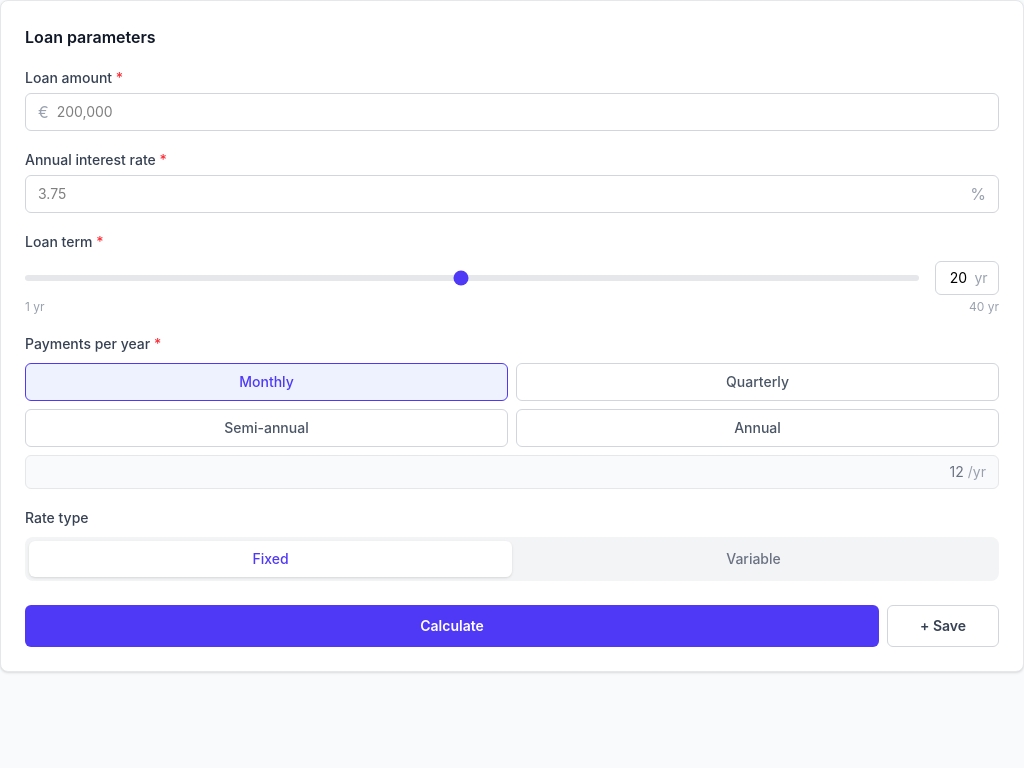
it: LoanForm save failure › closes the error banner with the dismiss button
The image size is (1024, 768).
Click the button "+ Save": [943, 626] box [887,605,999,647]
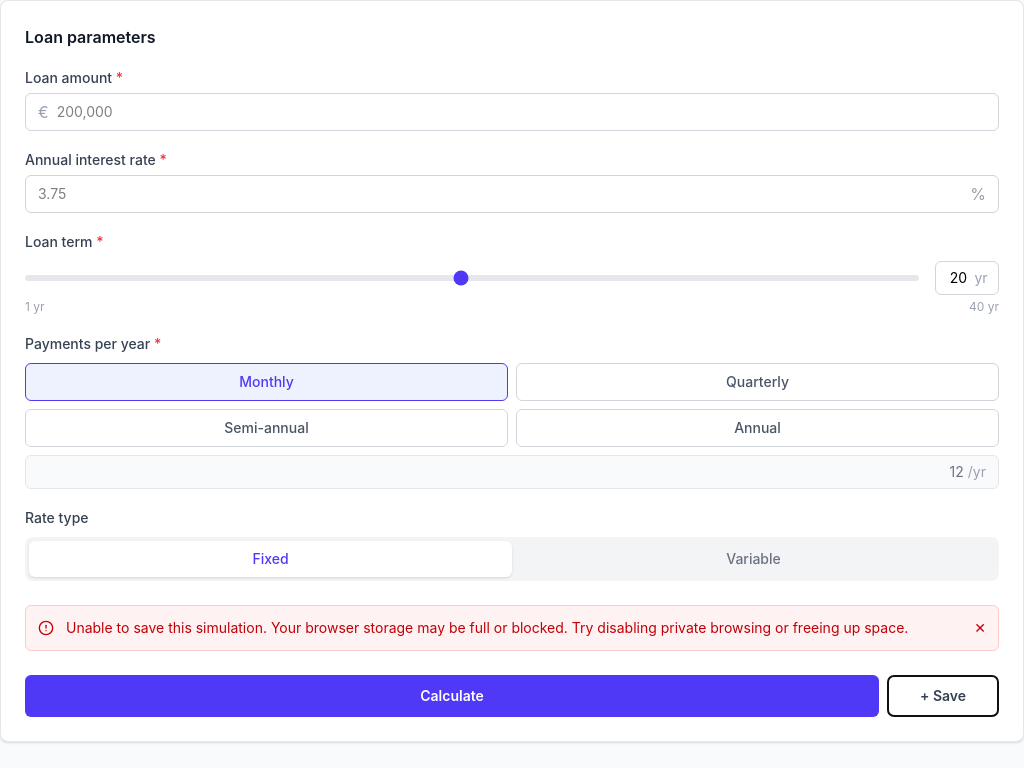
Click the button named "dismiss error": [980, 628] box [974,618,986,638]
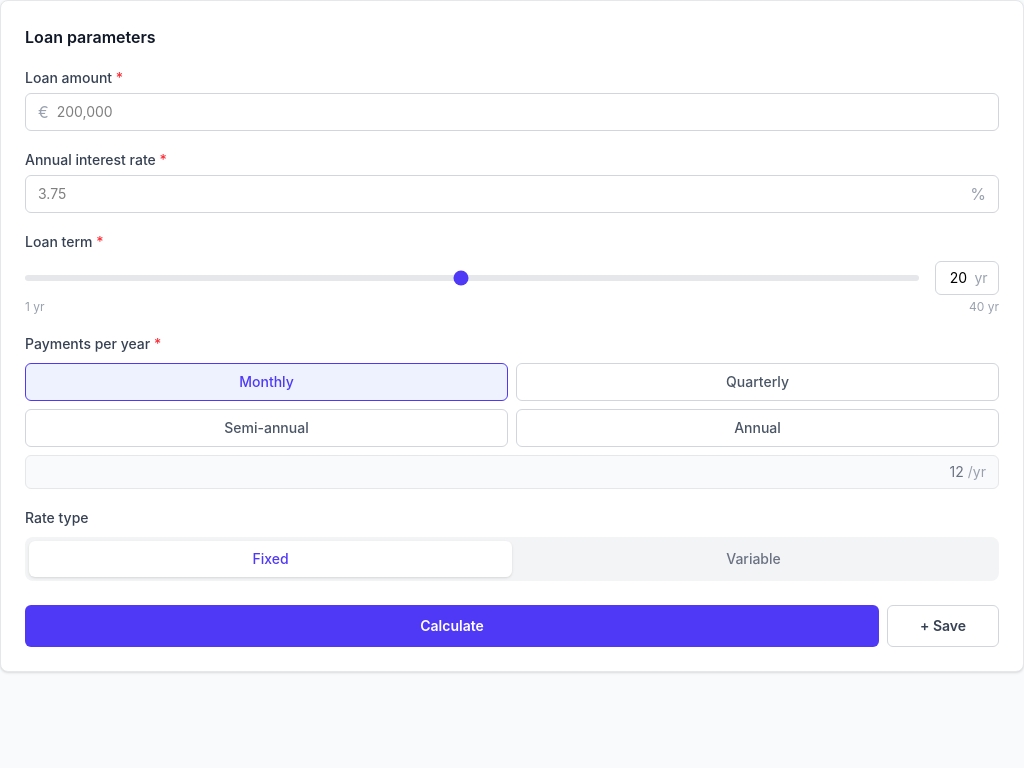
Check: the button "+ Save" is enabled, box [887,605,999,647]
Check: the message is gone
